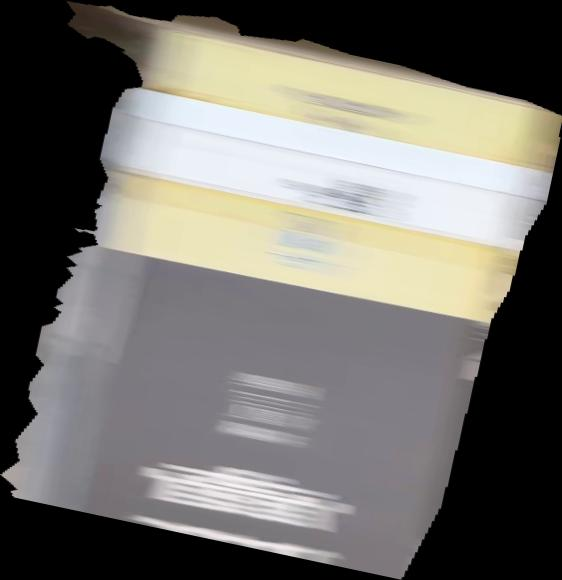reverse: (1, 1, 562, 580)
